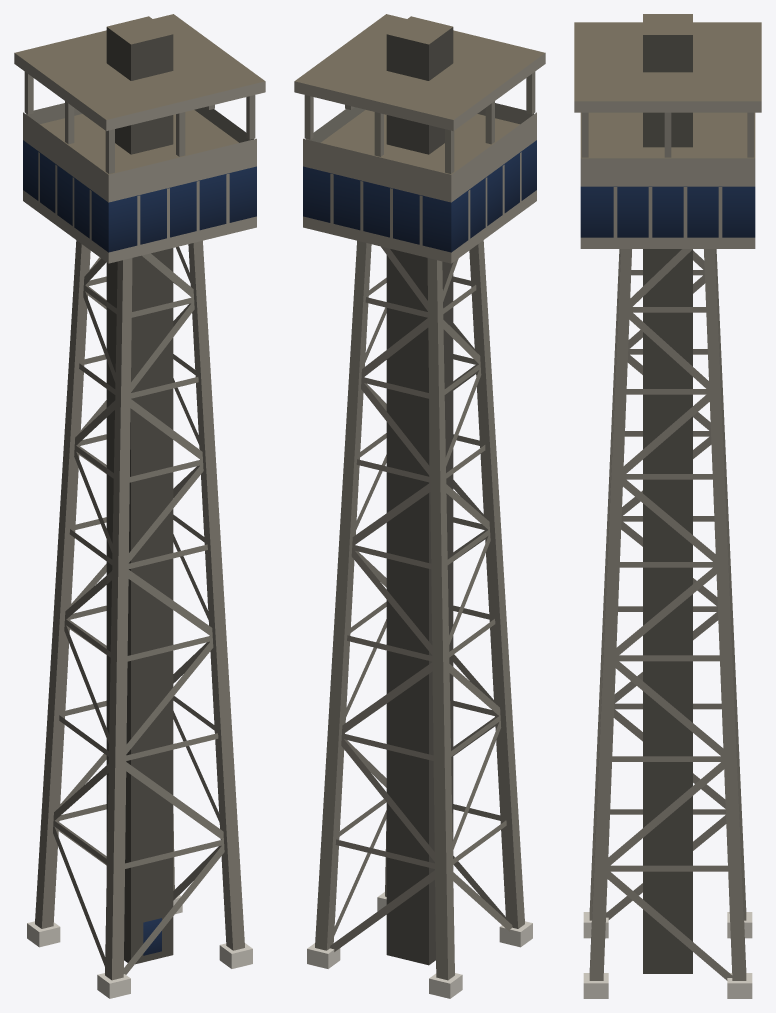
Rendered from hs-tower.glb.
3 views of the same model, side by side, from view 1: azimuth 30°, elevation 25°; view 2: azimuth 150°, elevation 25°; view 3: azimuth 270°, elevation 25° (orthographic).
Parts seen in each view (by area): view 1: HSMountainTower; view 2: HSMountainTower; view 3: HSMountainTower.
Boxes of the visible parts, x1,y1,x2,y2 form: HSMountainTower: (14, 14, 265, 998); HSMountainTower: (294, 14, 545, 998); HSMountainTower: (574, 14, 761, 998).
Bounding box in the file's own units: 12 × 66.34 × 12.
